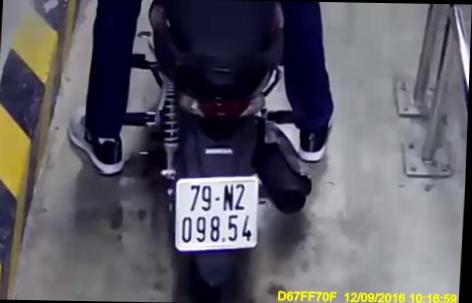LP: (173, 173, 264, 254)
